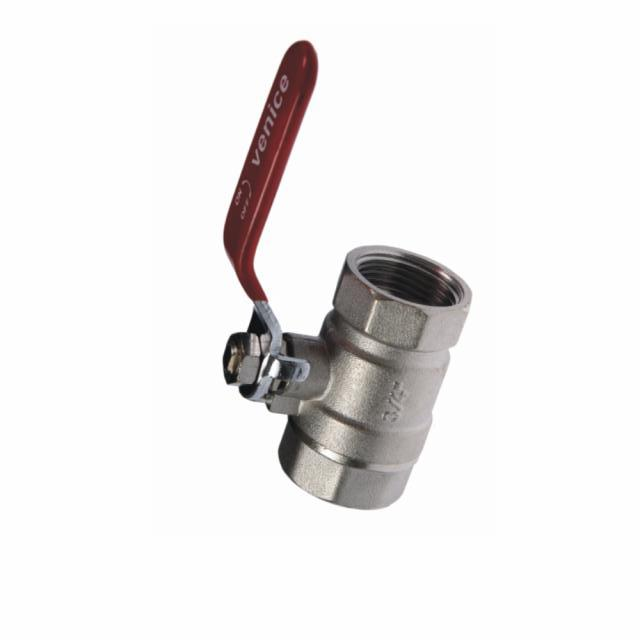opened valve: (219, 39, 470, 514)
